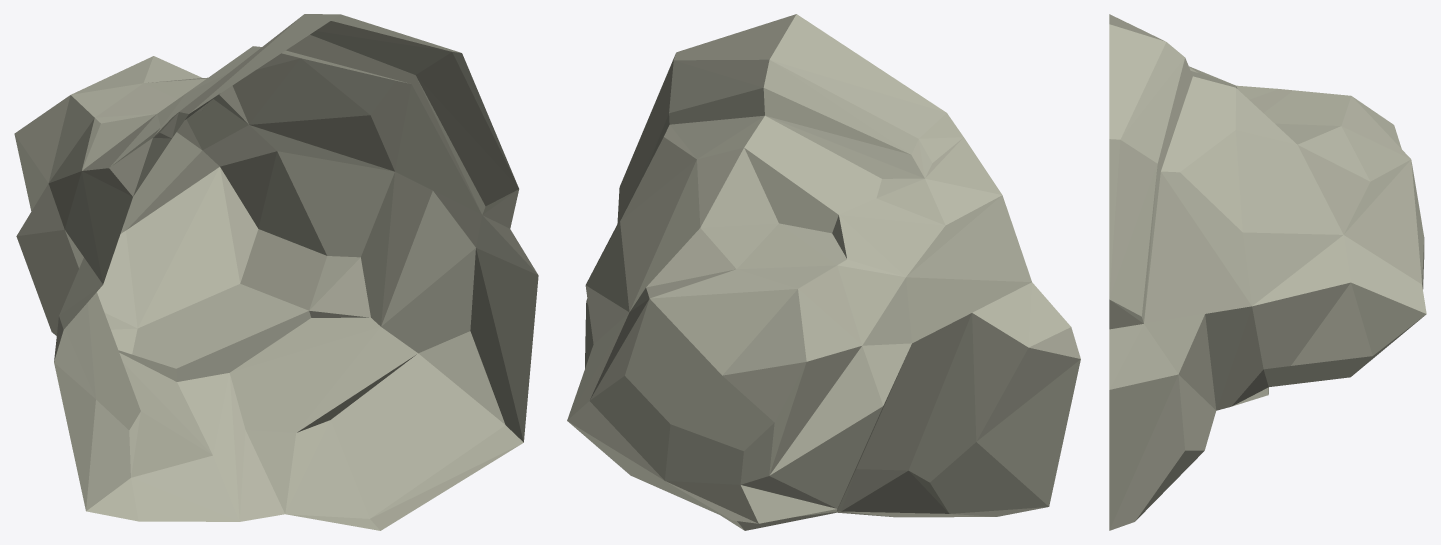
The model's file is Mountain Rock 01.FBX.
3 views of the same model, side by side, from view 1: azimuth 30°, elevation 25°; view 2: azimuth 150°, elevation 25°; view 3: azimuth 270°, elevation 25° (orthographic). The views are drawn at different scales.
Parts seen in each view (by area): view 1: Mountain Rock 01; view 2: Mountain Rock 01; view 3: Mountain Rock 01.
Part boxes in pixels (box(x1,y1,x2,y2)): Mountain Rock 01: box(14, 14, 538, 530); Mountain Rock 01: box(567, 14, 1080, 530); Mountain Rock 01: box(1109, 14, 1426, 530).
Size of the model in its own units: 1695 by 1067 by 1759.
